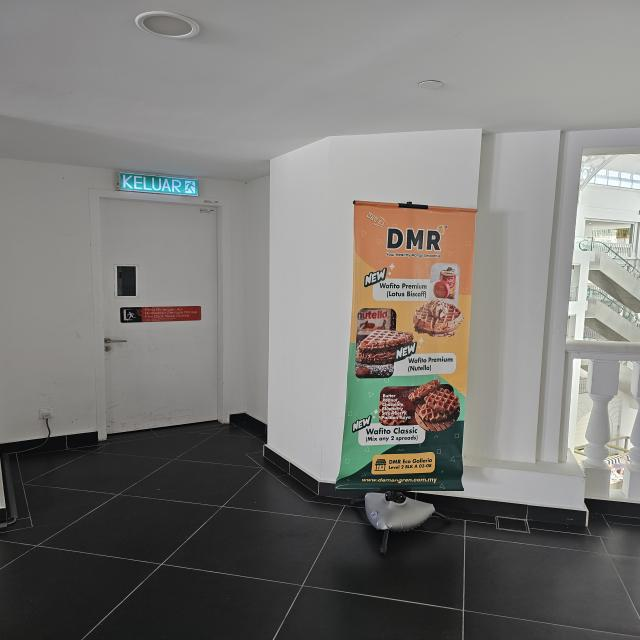door: (96, 194, 224, 438)
footpath: (4, 439, 327, 640)
obstacle: (334, 198, 477, 537)
